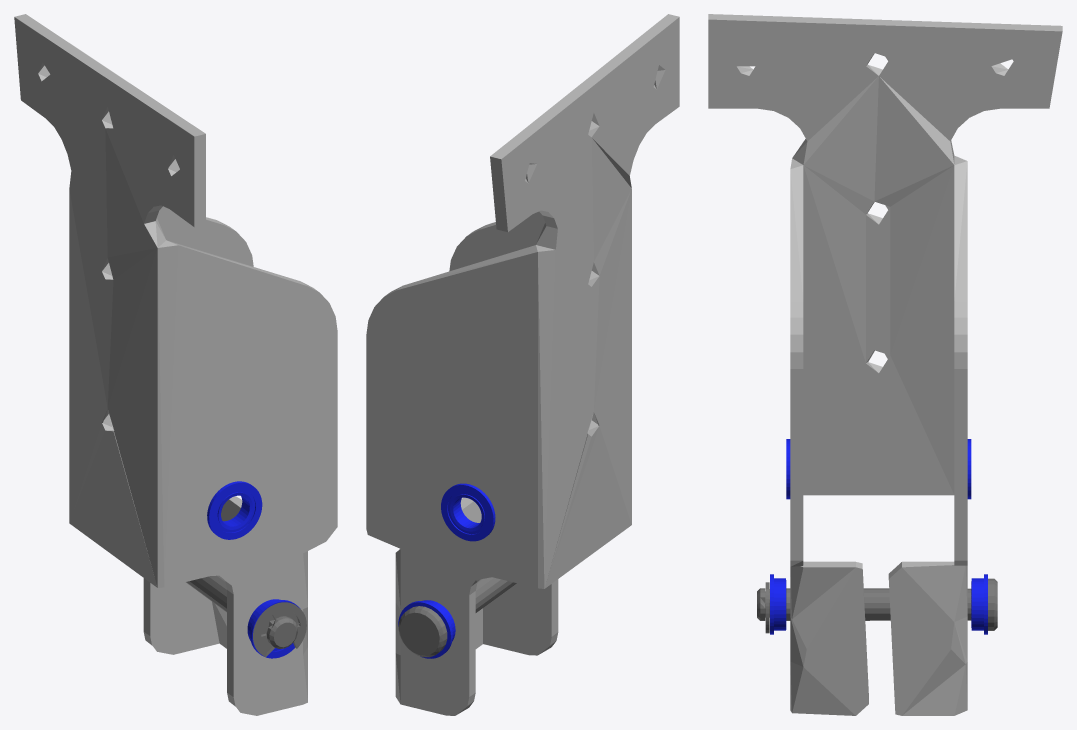
Rendered from RARM_THUMB_LINK_mesh.dae.
3 views of the same model, side by side, from view 1: azimuth 30°, elevation 25°; view 2: azimuth 150°, elevation 25°; view 3: azimuth 270°, elevation 25° (orthographic).
Parts seen in each view (by area): view 1: サーフェス1, サーフェス1_ncl1_4, サーフェス1_ncl1_5, サーフェス1_ncl1_6, サーフェス1_ncl1_3; view 2: サーフェス1, サーフェス1_ncl1_5, サーフェス1_ncl1_2, サーフェス1_ncl1_1; view 3: サーフェス1, サーフェス1_ncl1_5, サーフェス1_ncl1_1, サーフェス1_ncl1_3.
Part boxes in pixels (box(x1,y1,x2,y2)): サーフェス1: box(14, 14, 337, 715); サーフェス1_ncl1_4: box(207, 481, 262, 539); サーフェス1_ncl1_5: box(186, 575, 297, 648); サーフェス1_ncl1_6: box(253, 602, 306, 657); サーフェス1_ncl1_3: box(247, 599, 300, 658); サーフェス1: box(366, 14, 679, 715); サーフェス1_ncl1_5: box(398, 577, 516, 657); サーフェス1_ncl1_2: box(441, 483, 495, 541); サーフェス1_ncl1_1: box(398, 600, 455, 658); サーフェス1: box(708, 14, 1062, 715); サーフェス1_ncl1_5: box(757, 578, 997, 630); サーフェス1_ncl1_1: box(971, 574, 987, 634); サーフェス1_ncl1_3: box(770, 574, 786, 634).
Size of the model in its own units: 0.032 by 0.054 by 0.105.
